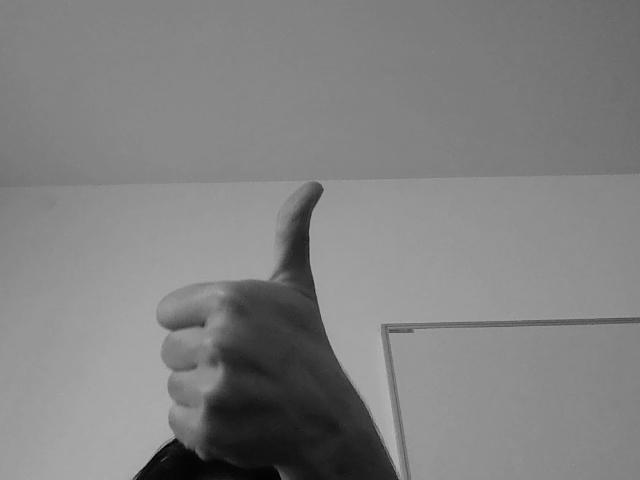good: (154, 176, 354, 465)
